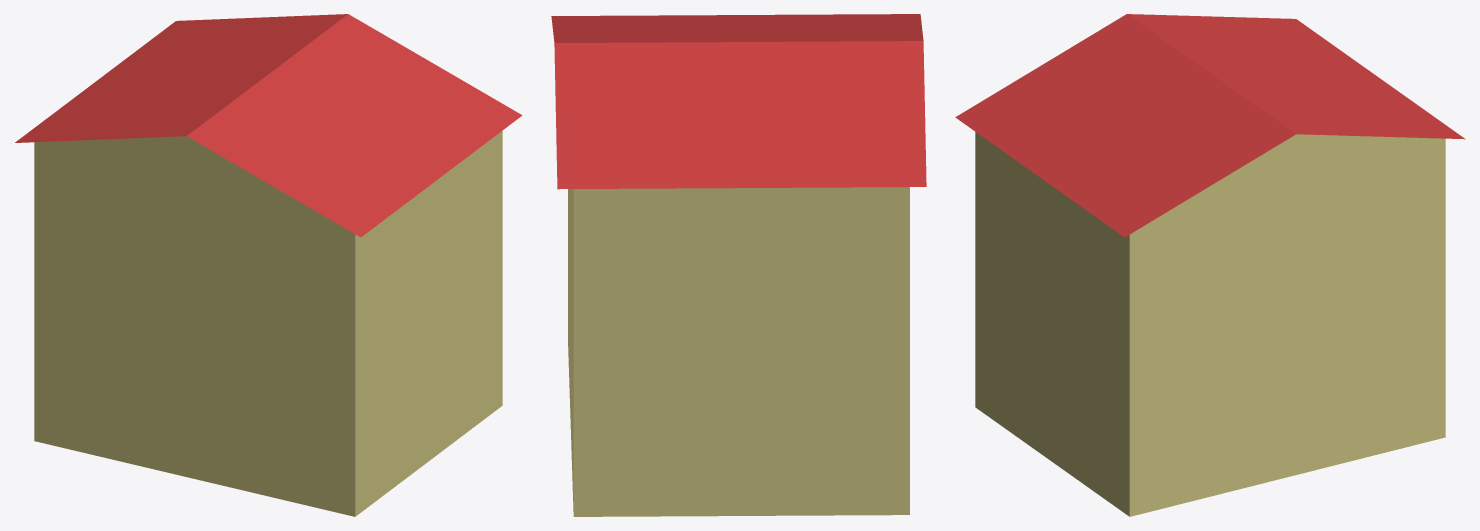
3 views of the same model, side by side, from view 1: azimuth 30°, elevation 25°; view 2: azimuth 150°, elevation 25°; view 3: azimuth 270°, elevation 25° (orthographic). The views are drawn at different scales.
Size of the model in its own units: 8.26 by 8.65 by 6.5.
